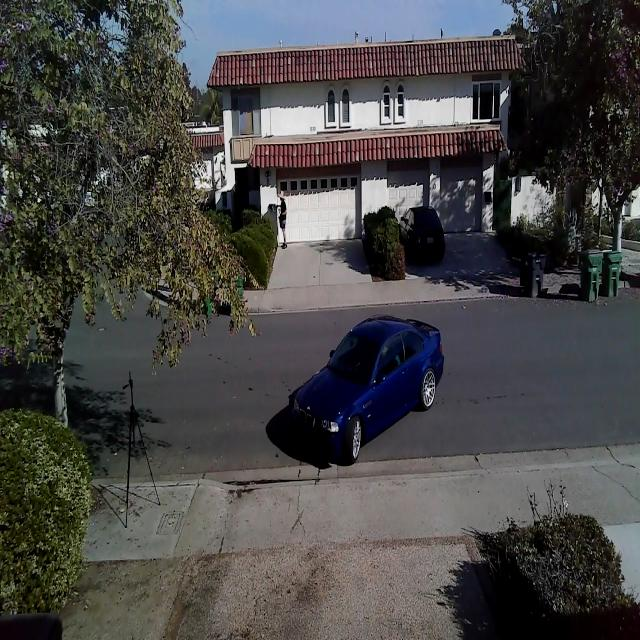Carbeetle: (275, 308, 453, 468)
Civilian: (399, 205, 445, 263)
